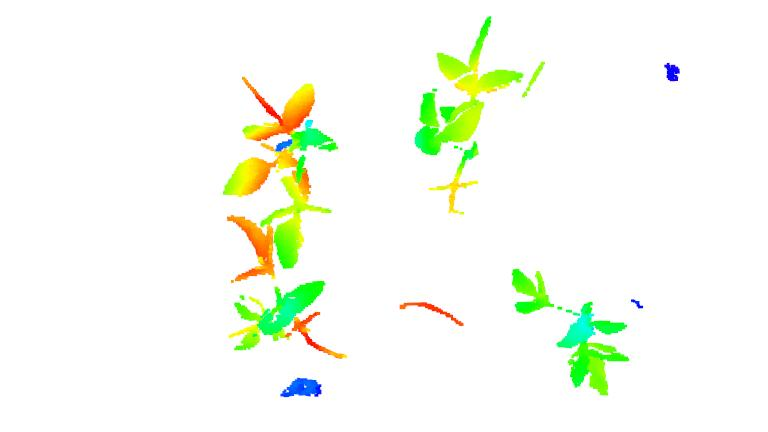mungbean: (212, 70, 347, 266), (416, 13, 527, 216), (221, 209, 354, 363), (504, 264, 632, 397)
